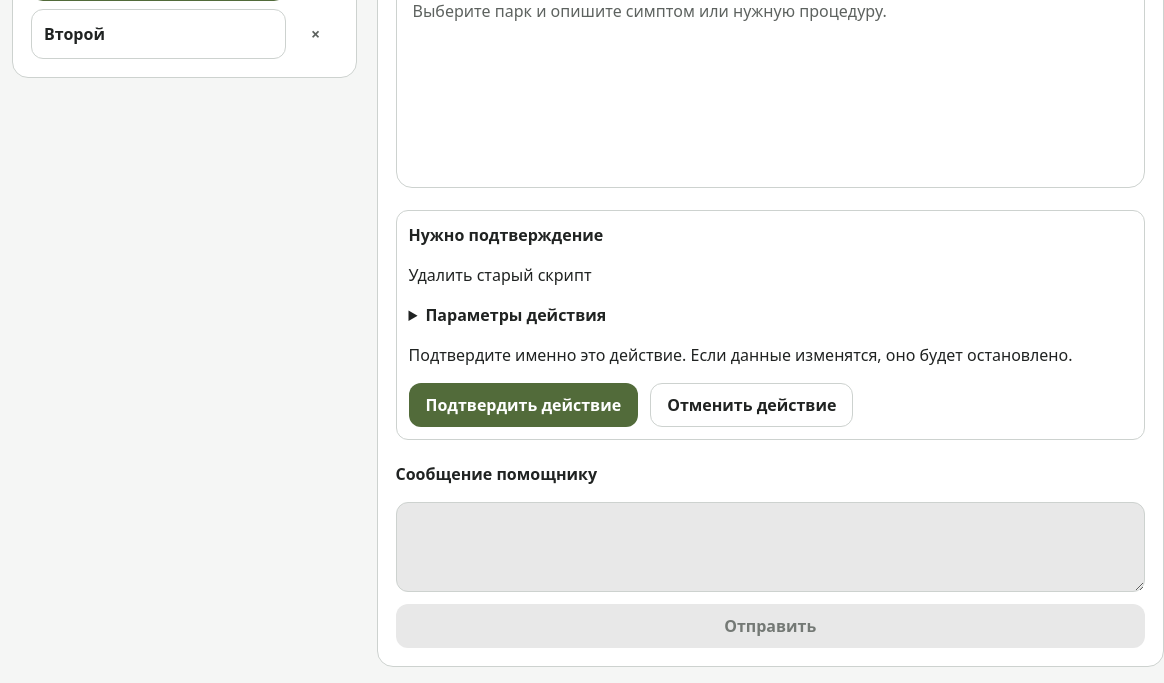
Test case: AssistantPage › ignores a late confirmation response after another conversation is selected
The image size is (1164, 683).
(page scrolled)
Click the button "Подтвердить действие" at (523,405), box [408,383,638,427]
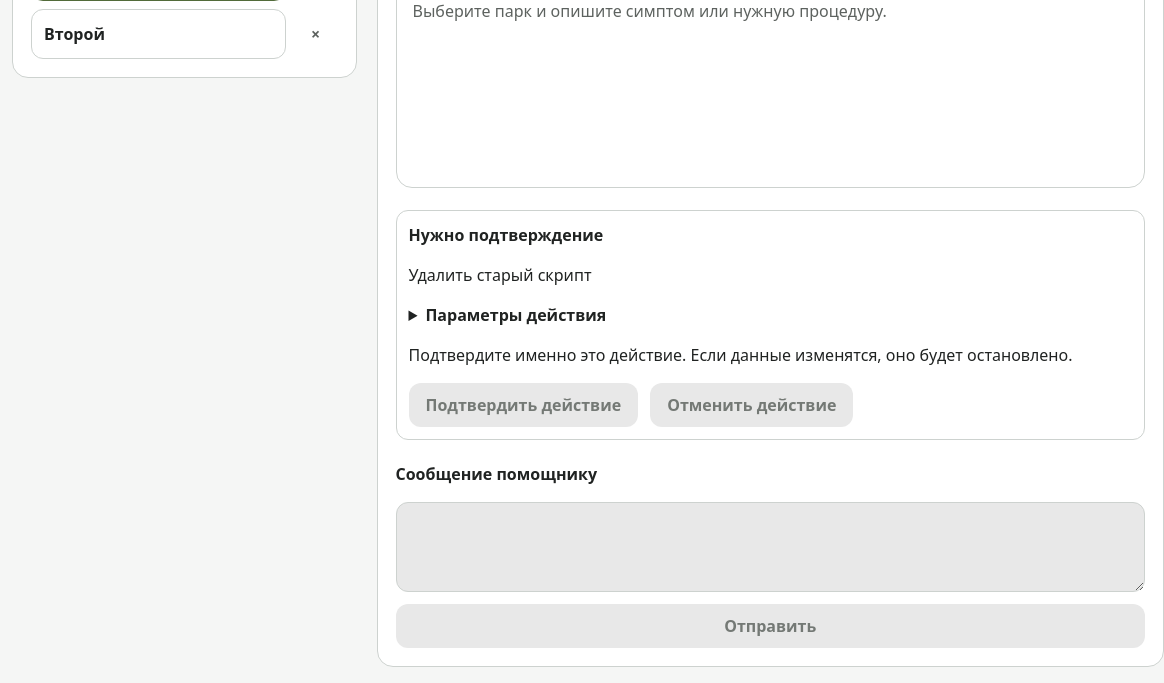
Click the button "Второй" at (158,34), box [31,9,286,59]
(page scrolled)
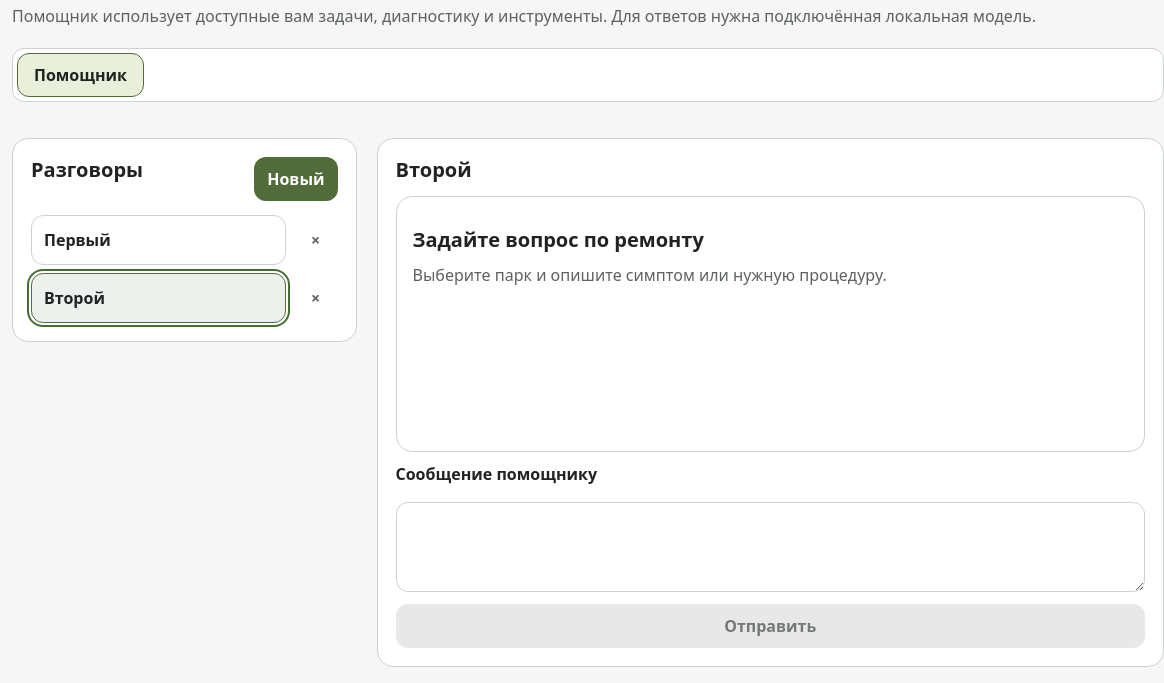
Expected: the text box labelled "Сообщение помощнику" is enabled, [396,502,1145,592]
Expected: the heading "Второй" is shown, [396,157,472,182]
Expected: the text "Удалить старый скрипт" is gone
